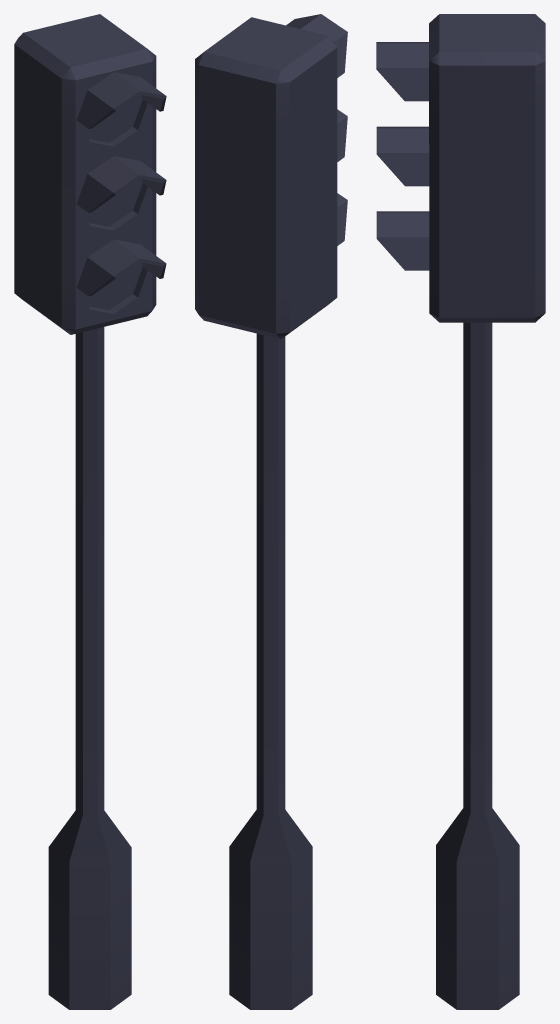
The model's file is trafficLightNewNoLights.gltf.
3 views of the same model, side by side, from view 1: azimuth 30°, elevation 25°; view 2: azimuth 150°, elevation 25°; view 3: azimuth 270°, elevation 25° (orthographic).
Parts seen in each view (by area): view 1: Main body, Stick; view 2: Main body, Stick; view 3: Main body, Stick.
Boxes of the visible parts, x1,y1,x2,y2 form: Main body: [14, 14, 166, 334]; Stick: [48, 327, 131, 1009]; Main body: [195, 14, 347, 339]; Stick: [229, 333, 312, 1009]; Main body: [376, 14, 545, 322]; Stick: [436, 322, 519, 1009].
Size of the model in its own units: 0.00536 by 0.0515 by 0.00822.
